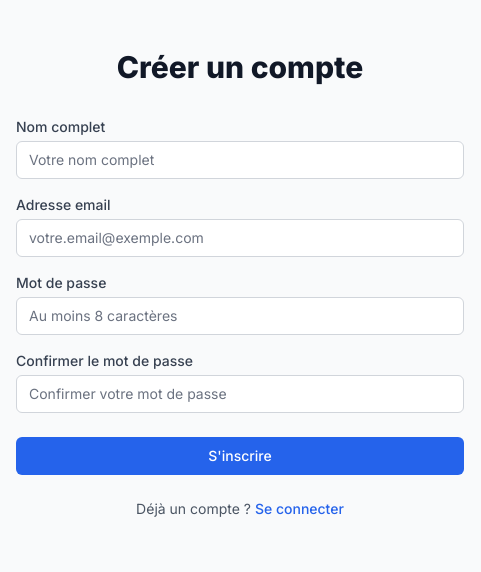
Test: FormulaireInscription › Soumission du formulaire et requêtes réseau › affiche une erreur réseau en cas d'exception
The image size is (481, 572).
Type "Jean Dupont" into the field labelled "Nom complet" at (240, 160), box [16, 141, 464, 179]
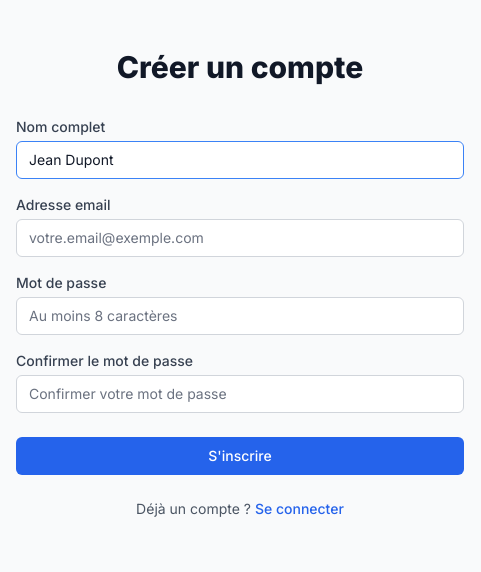
Type "jean.dupont@exemple.com" into the field labelled "Adresse email" at (240, 238), box [16, 219, 464, 257]
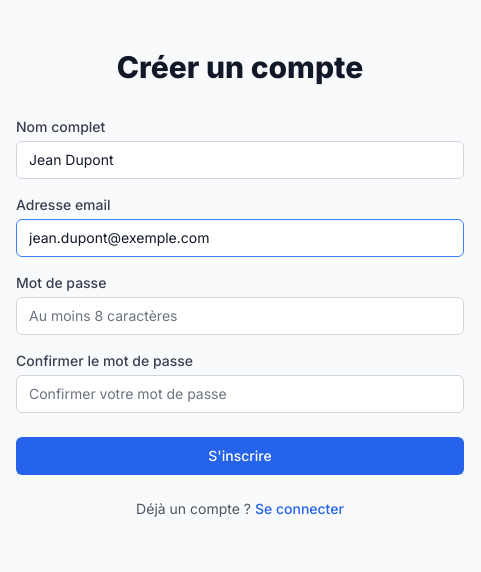
Type "motdepasse123" into the password field labelled "Mot de passe" at (240, 316), box [16, 297, 464, 335]
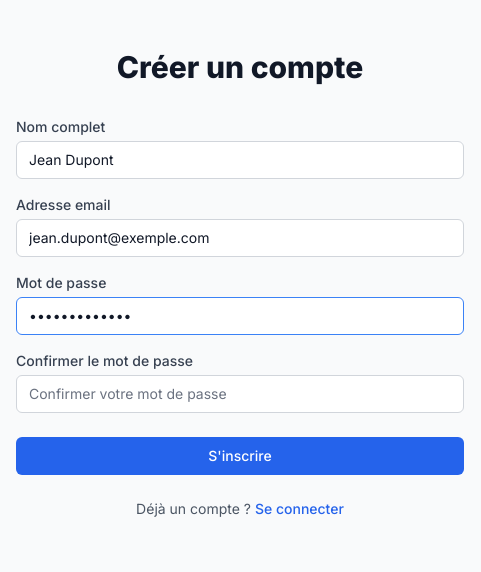
Type "motdepasse123" into the password field labelled "Confirmer le mot de passe" at (240, 394), box [16, 375, 464, 413]
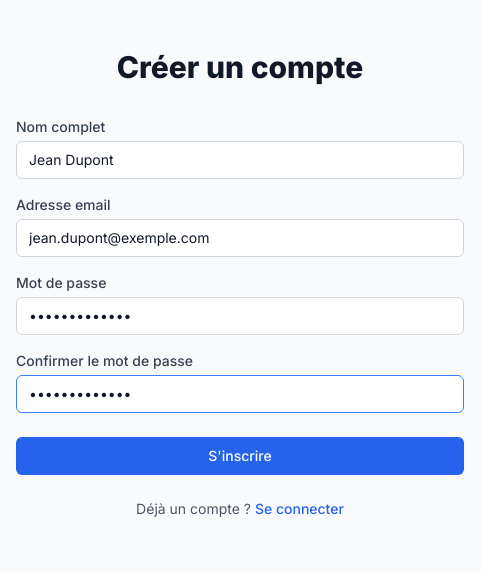
Click the button "S'inscrire" at (240, 456), box [16, 437, 464, 475]
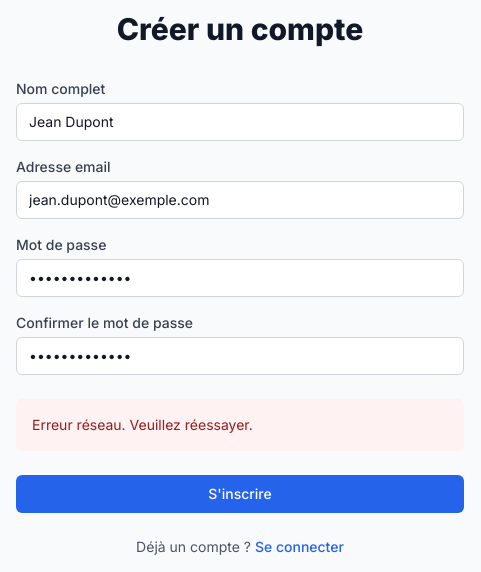
Now the text "Erreur réseau. Veuillez réessayer." is shown, box [32, 416, 253, 433]
